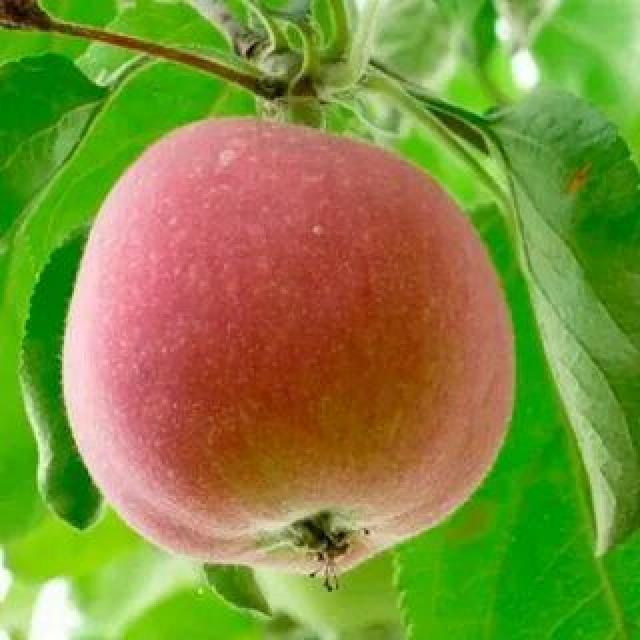Fresh Apple: (75, 117, 500, 565)
